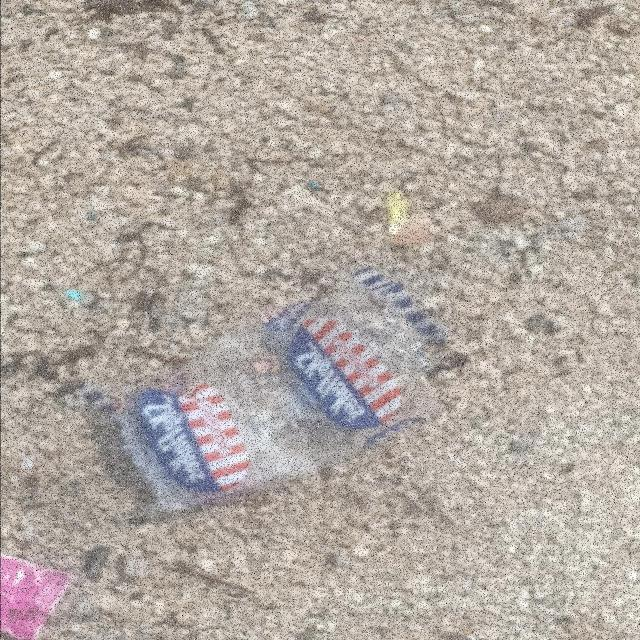plastic_waste: (110, 264, 451, 516)
